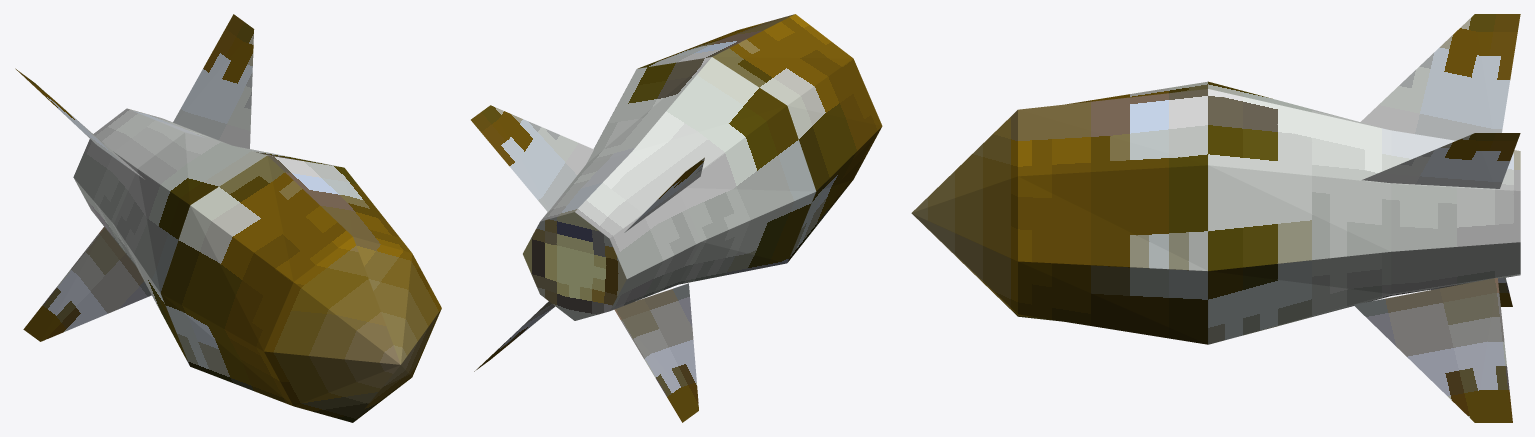
The model's file is T_rocket.obj.
The picture shows the model from 3 angles, left to right: view 1: azimuth 30°, elevation 25°; view 2: azimuth 150°, elevation 25°; view 3: azimuth 270°, elevation 25°; orthographic projection. The views are drawn at different scales.
Parts seen in each view (by area): view 1: Node 0; view 2: Node 0; view 3: Node 0.
Boxes of the visible parts, bbox=[...] form: Node 0: bbox=[15, 14, 441, 422]; Node 0: bbox=[471, 14, 882, 422]; Node 0: bbox=[911, 14, 1520, 422].
Bounding box in the file's own units: 0.37 × 0.42 × 0.8.
1 material, 1 textured.
